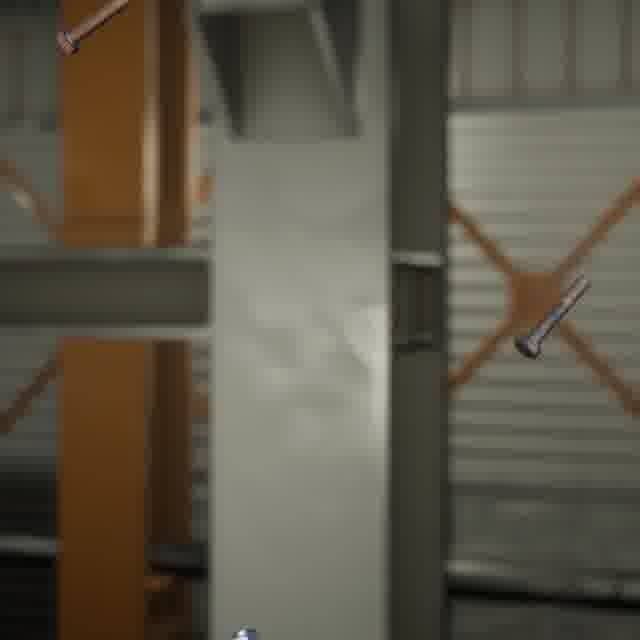bolt: (510, 271, 595, 363), (51, 0, 140, 59)
